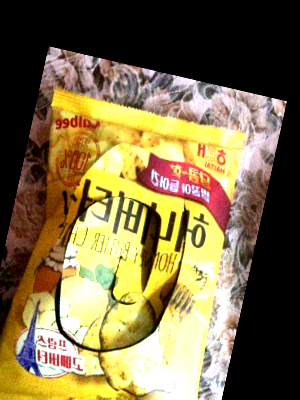vinyl_s: (4, 80, 248, 400)
